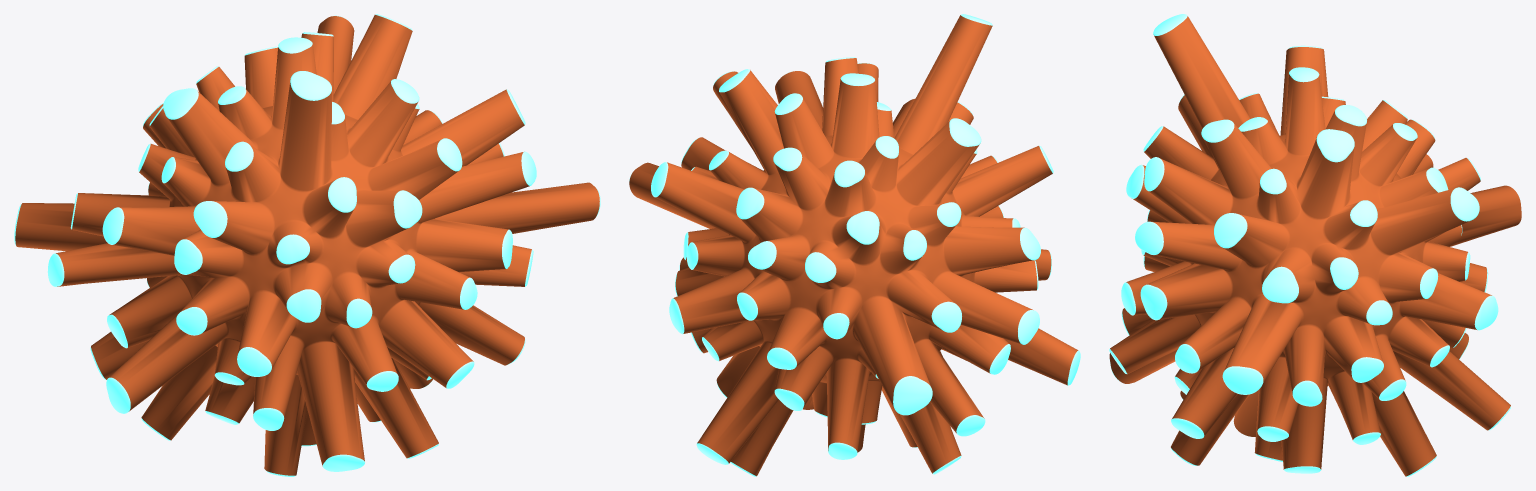
The picture shows the model from 3 angles, left to right: view 1: azimuth 30°, elevation 25°; view 2: azimuth 150°, elevation 25°; view 3: azimuth 270°, elevation 25°; orthographic projection. The views are drawn at different scales.
Parts seen in each view (by area): view 1: Sv_0.004_0; view 2: Sv_0.004_0; view 3: Sv_0.004_0.
Part boxes in pixels (x1,y1,x2,y2): Sv_0.004_0: (14, 14, 600, 476); Sv_0.004_0: (629, 14, 1080, 476); Sv_0.004_0: (1109, 14, 1521, 476).
Bounding box in the file's own units: 2.75 × 2.37 × 2.17.
